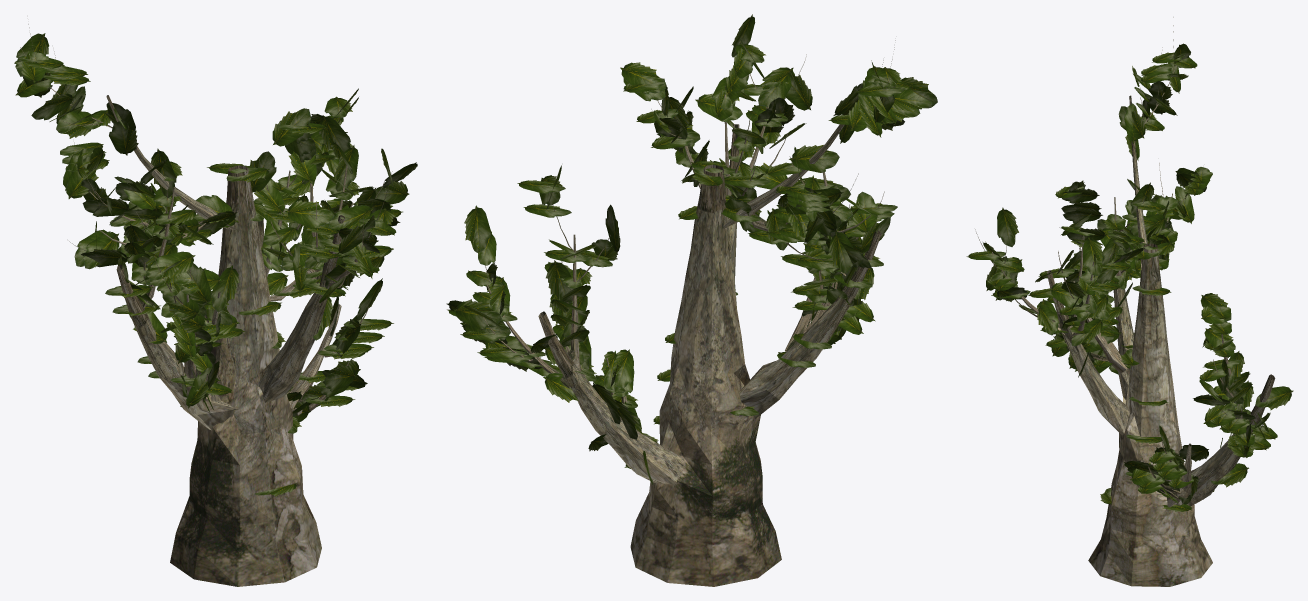
Rendered from tree1.obj.
The picture shows the model from 3 angles, left to right: view 1: azimuth 30°, elevation 25°; view 2: azimuth 150°, elevation 25°; view 3: azimuth 270°, elevation 25°; orthographic projection. The views are drawn at different scales.
Parts seen in each view (by area): view 1: object2, object163, object11, object88, object33, object296, object42, object176, object106, object15, object95, object74 (+17 smaller); view 2: object2, object258, object163, object88, object91, object278, object285, object47, object76, object126, object344, object58 (+2 smaller); view 3: object2, object11, object258, object163, object51, object69, object88, object264, object172, object296, object92, object261 (+2 smaller).
Part boxes in pixels (x1=…): object2: x1=170, y1=165, x2=321, y2=586; object163: x1=116, y1=264, x2=238, y2=430; object11: x1=259, y1=215, x2=345, y2=402; object88: x1=106, y1=95, x2=237, y2=229; object33: x1=285, y1=200, x2=334, y2=227; object296: x1=287, y1=304, x2=341, y2=408; object42: x1=272, y1=108, x2=311, y2=146; object176: x1=211, y1=265, x2=239, y2=312; object106: x1=56, y1=110, x2=95, y2=138; object15: x1=328, y1=205, x2=374, y2=229; object95: x1=109, y1=120, x2=138, y2=155; object74: x1=319, y1=115, x2=350, y2=152; object2: x1=630, y1=164, x2=781, y2=586; object258: x1=538, y1=311, x2=684, y2=485; object163: x1=739, y1=230, x2=881, y2=418; object88: x1=723, y1=124, x2=844, y2=228; object91: x1=789, y1=145, x2=839, y2=172; object278: x1=464, y1=205, x2=491, y2=252; object285: x1=453, y1=299, x2=501, y2=329; object47: x1=758, y1=67, x2=794, y2=106; object76: x1=620, y1=62, x2=665, y2=94; object126: x1=829, y1=231, x2=853, y2=273; object344: x1=546, y1=260, x2=572, y2=304; object58: x1=785, y1=71, x2=812, y2=110; object2: x1=1088, y1=243, x2=1212, y2=586; object11: x1=1046, y1=270, x2=1130, y2=434; object258: x1=1166, y1=374, x2=1275, y2=509; object163: x1=1111, y1=229, x2=1133, y2=404; object51: x1=997, y1=207, x2=1018, y2=246; object69: x1=1083, y1=237, x2=1102, y2=276; object88: x1=1129, y1=95, x2=1147, y2=269; object264: x1=1255, y1=386, x2=1293, y2=410; object172: x1=1073, y1=281, x2=1127, y2=373; object296: x1=1167, y1=443, x2=1191, y2=507; object92: x1=1118, y1=106, x2=1145, y2=138; object261: x1=1211, y1=463, x2=1248, y2=487.
Size of the model in its own units: 1.36 by 1.76 by 1.12.
